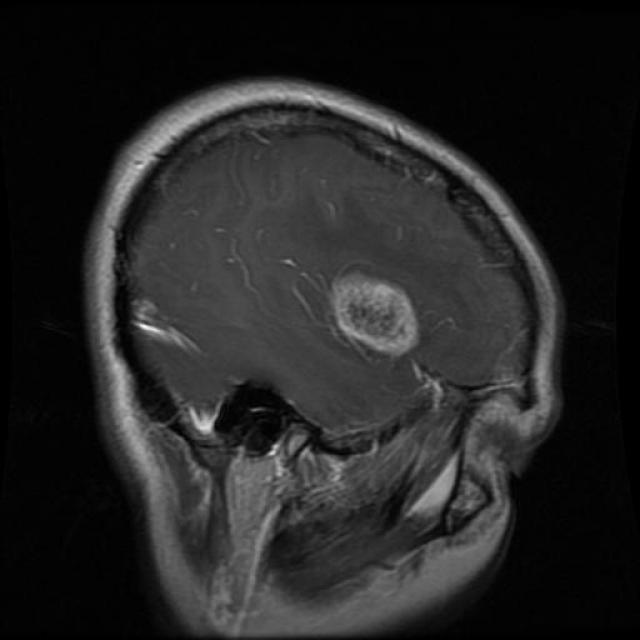Brain-Tumor: (321, 263, 429, 365)
